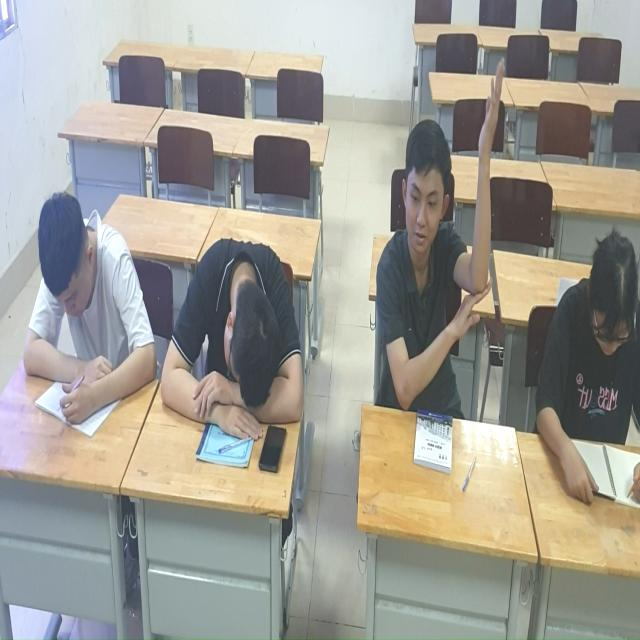raise_hand: (376, 55, 522, 404)
read: (17, 171, 152, 433), (536, 231, 640, 508)
sleep: (156, 228, 307, 434)
